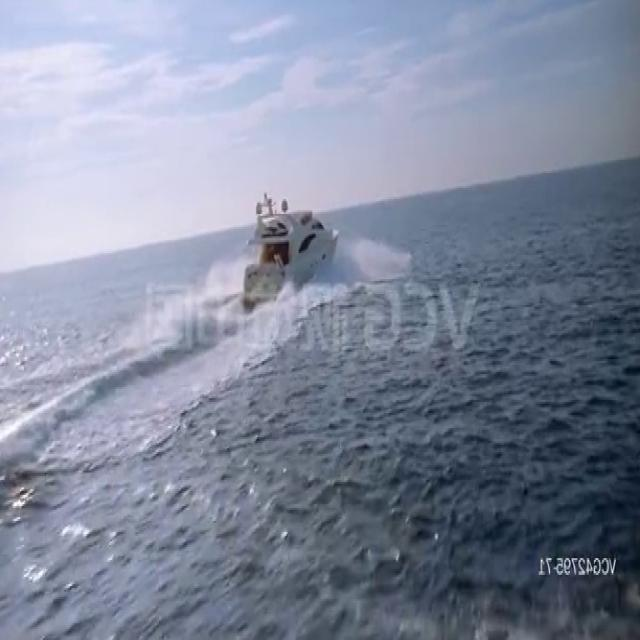houseboat: (239, 186, 344, 308)
